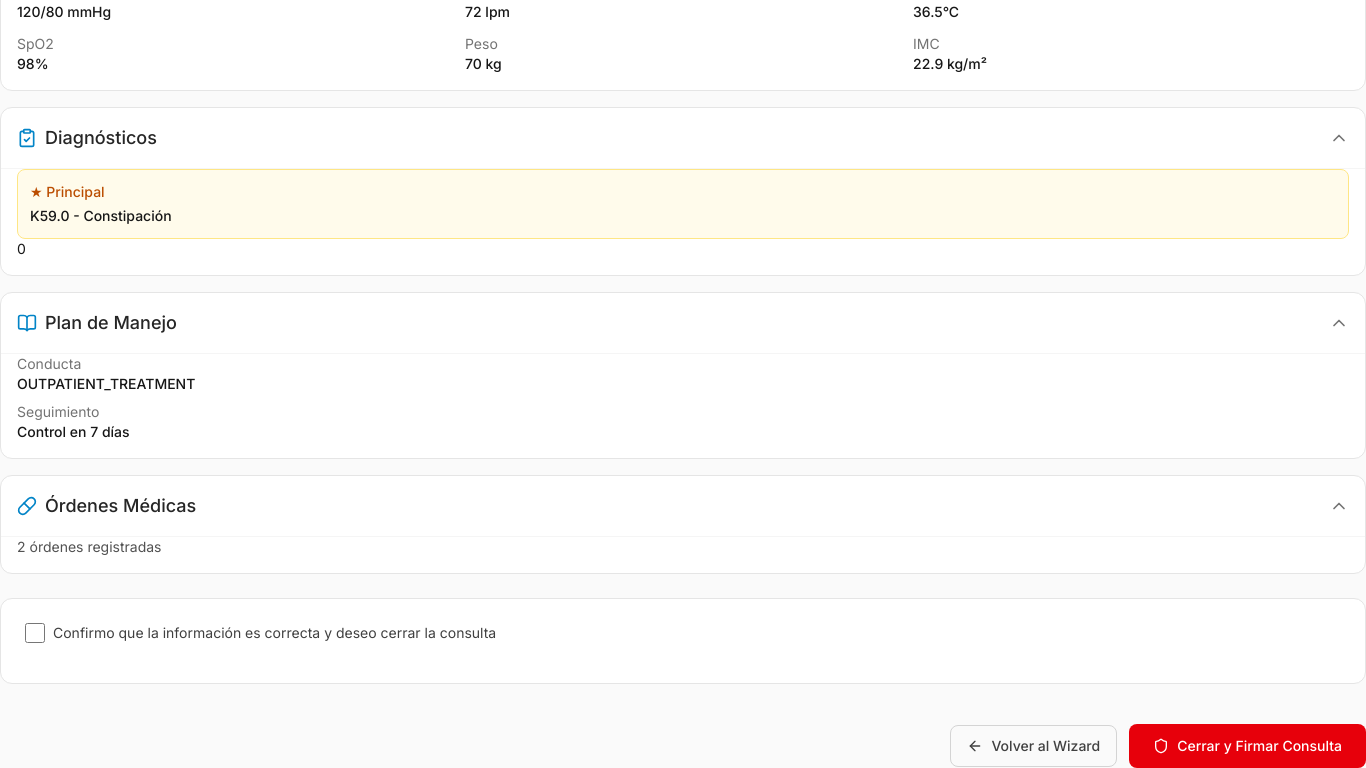
ClosingStep › opens confirmation modal when clicking close button
(page scrolled)
Click the button "Cerrar y Firmar Consulta" at (1248, 746), box [1129,724,1365,767]
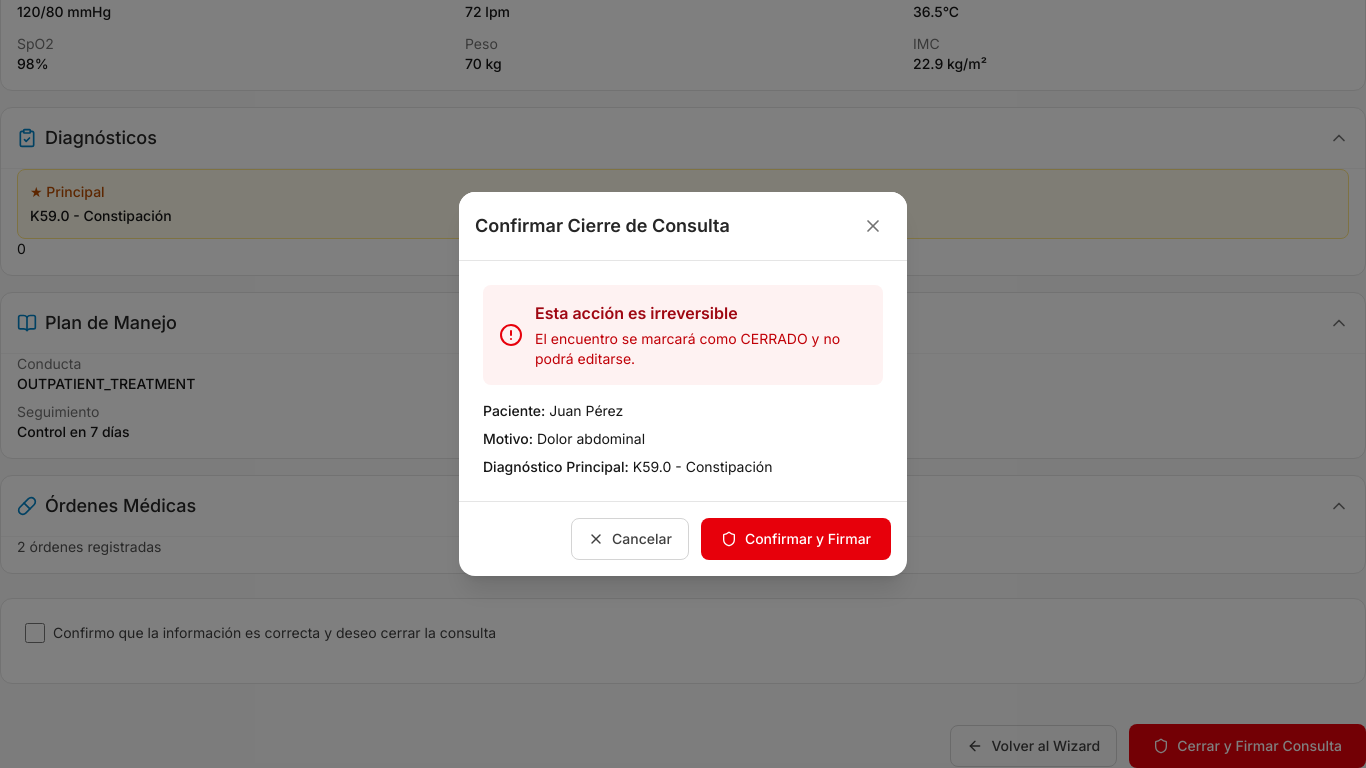
Now the heading "Confirmar Cierre de Consulta" is shown, box [475,212,730,240]
